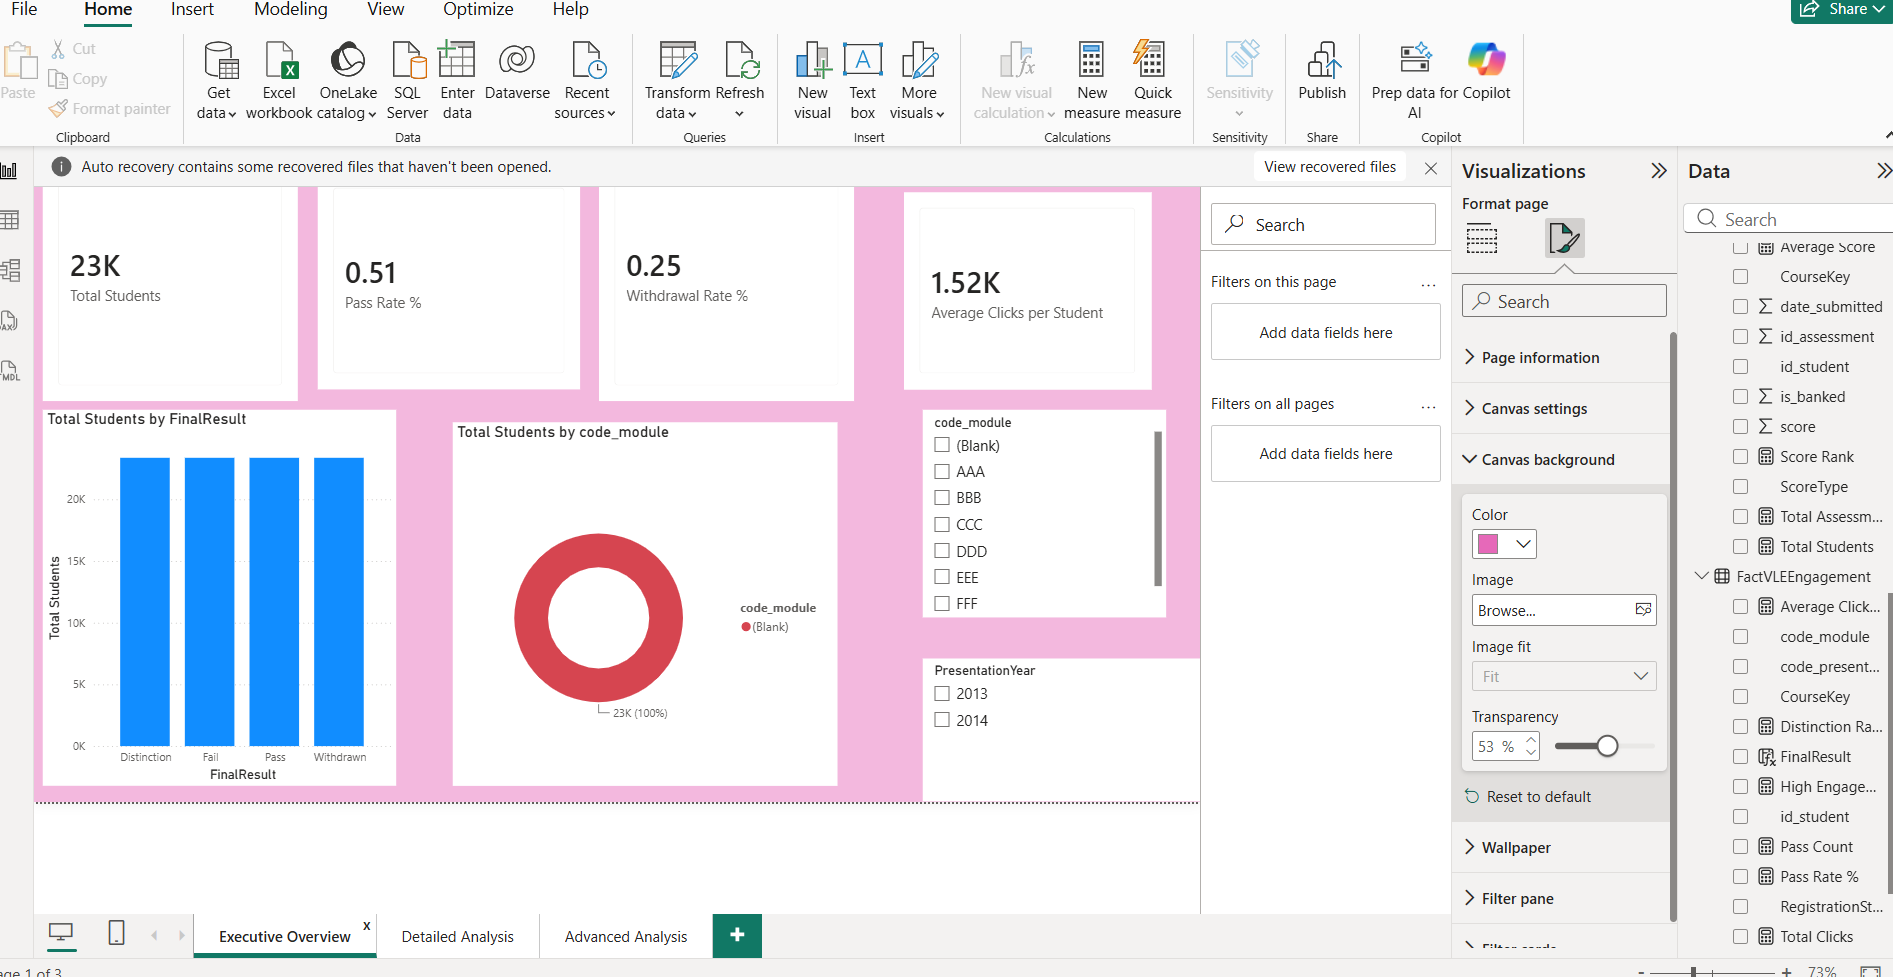

Layout of this report page (visuals, bound fields, positions):
{"tool":"powerbi","page":{"name":"Executive Overview","canvas":[1280,720],"ordinal":0},"visuals":[{"type":"cardVisual","fields":{"Data":["FactAssessment.Total Students"]},"box":[10,0,280,280],"z":0},{"type":"cardVisual","fields":{"Data":["FactVLEEngagement.Pass Rate %"]},"box":[311.5,28.8,288.2,238.8],"z":1},{"type":"cardVisual","fields":{"Data":["FactVLEEngagement.Withdrawal Rate %"]},"box":[620.2,0,280,280],"z":2},{"type":"cardVisual","fields":{"Data":["FactVLEEngagement.Average Clicks per Student"]},"box":[955.1,50.8,271.7,216.8],"z":3},{"type":"clusteredColumnChart","fields":{"Category":["FactVLEEngagement.FinalResult"],"Y":["FactAssessment.Total Students"]},"box":[9.6,289.5,388.3,413],"z":4},{"type":"donutChart","fields":{"Category":["DimCourse.code_module"],"Y":["FactAssessment.Total Students"]},"box":[459.7,303.3,422.6,399.3],"z":5},{"type":"slicer","fields":{"Values":["DimCourse.code_module"]},"box":[975.6,289.5,267.6,227.8],"z":6},{"type":"slicer","fields":{"Values":["DimDate.PresentationYear"]},"box":[975.6,562.6,304.6,156.4],"z":7}]}

Visuals, with their boxes on the page's 1280x720 design canvas (x1, y1, x2, y2). These are canvas units, not pixel positions in the 1893x977 screenshot, which may show the page scaled, cropped or inside an application window:
cardVisual - FactAssessment.Total Students: [left=10, top=0, right=290, bottom=280]
cardVisual - FactVLEEngagement.Pass Rate %: [left=312, top=29, right=600, bottom=268]
cardVisual - FactVLEEngagement.Withdrawal Rate %: [left=620, top=0, right=900, bottom=280]
cardVisual - FactVLEEngagement.Average Clicks per Student: [left=955, top=51, right=1227, bottom=268]
clusteredColumnChart - FactVLEEngagement.FinalResult x FactAssessment.Total Students: [left=10, top=290, right=398, bottom=702]
donutChart - DimCourse.code_module x FactAssessment.Total Students: [left=460, top=303, right=882, bottom=703]
slicer - DimCourse.code_module: [left=976, top=290, right=1243, bottom=517]
slicer - DimDate.PresentationYear: [left=976, top=563, right=1280, bottom=719]
